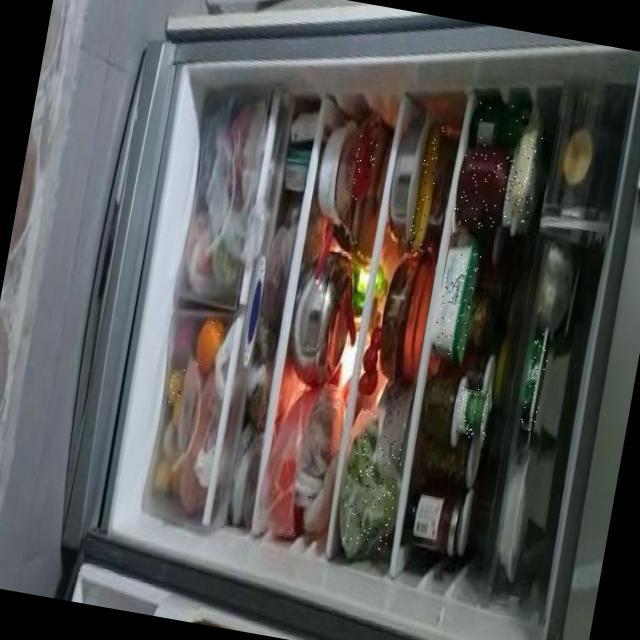Lechuga/Endivia: (335, 431, 404, 553)
Queso: (429, 249, 480, 363), (505, 131, 542, 226)
Yogur: (452, 386, 492, 441)
